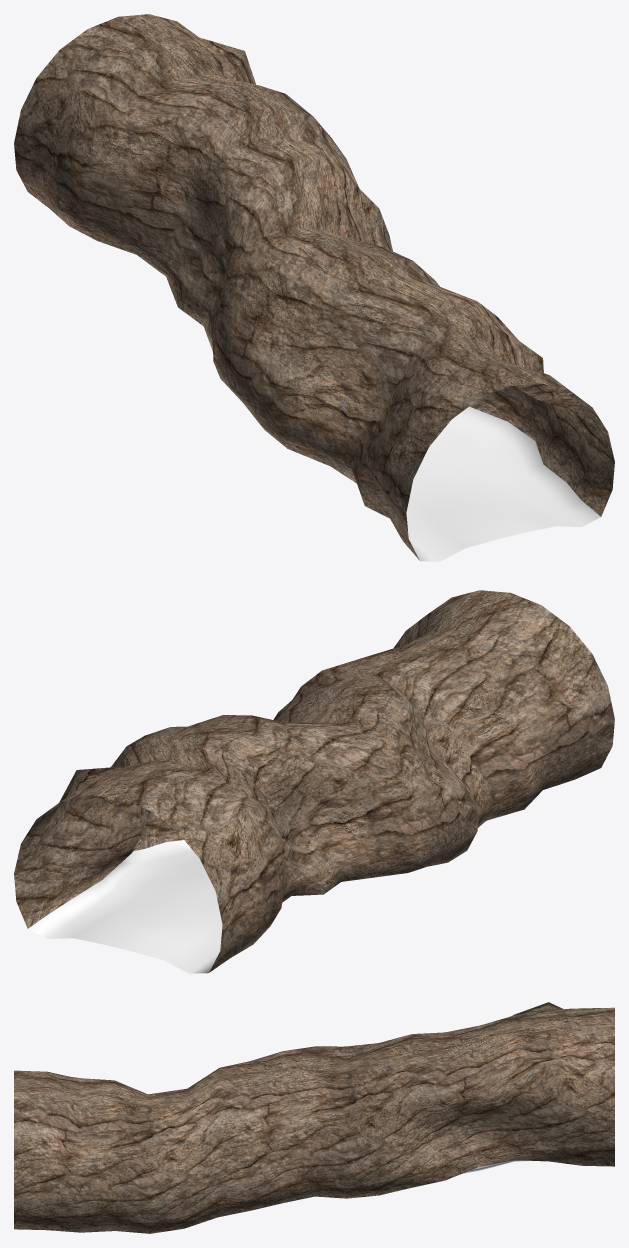
Rendered from CaveCorridorUpSmall.fbx.
The picture shows the model from 3 angles, top to bottom: view 1: azimuth 30°, elevation 25°; view 2: azimuth 150°, elevation 25°; view 3: azimuth 270°, elevation 25°; orthographic projection. The views are drawn at different scales.
Visible parts, largest first — view 1: CaveCorridorUpSmall; view 2: CaveCorridorUpSmall; view 3: CaveCorridorUpSmall.
Boxes of the visible parts, x1,y1,x2,y2 form: CaveCorridorUpSmall: [14, 14, 614, 561]; CaveCorridorUpSmall: [14, 590, 614, 973]; CaveCorridorUpSmall: [14, 1002, 614, 1233].
Bounding box in the file's own units: 353 × 352 × 1040.
